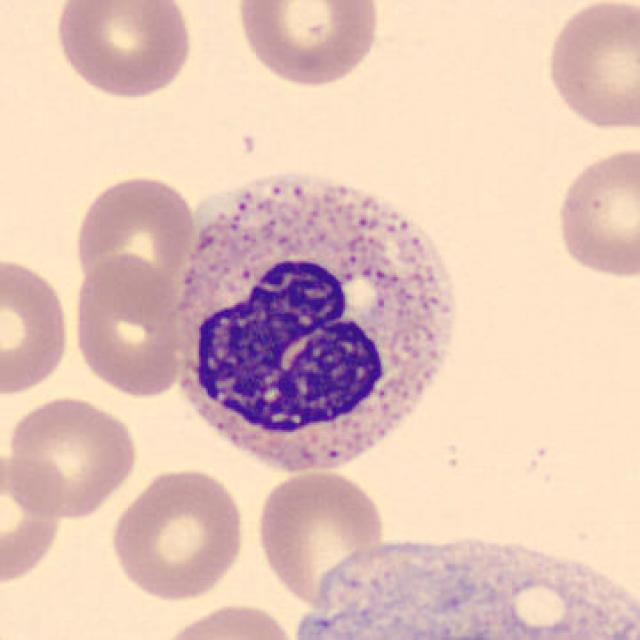Neutrophil: (167, 166, 462, 490), (282, 523, 640, 640)
RBC: (107, 464, 249, 604), (252, 467, 388, 607), (68, 252, 192, 400), (69, 170, 199, 310), (4, 391, 142, 522), (49, 0, 197, 100), (233, 0, 384, 90), (540, 0, 638, 134), (551, 141, 640, 282), (0, 252, 73, 399), (0, 447, 69, 590), (153, 599, 299, 640)
